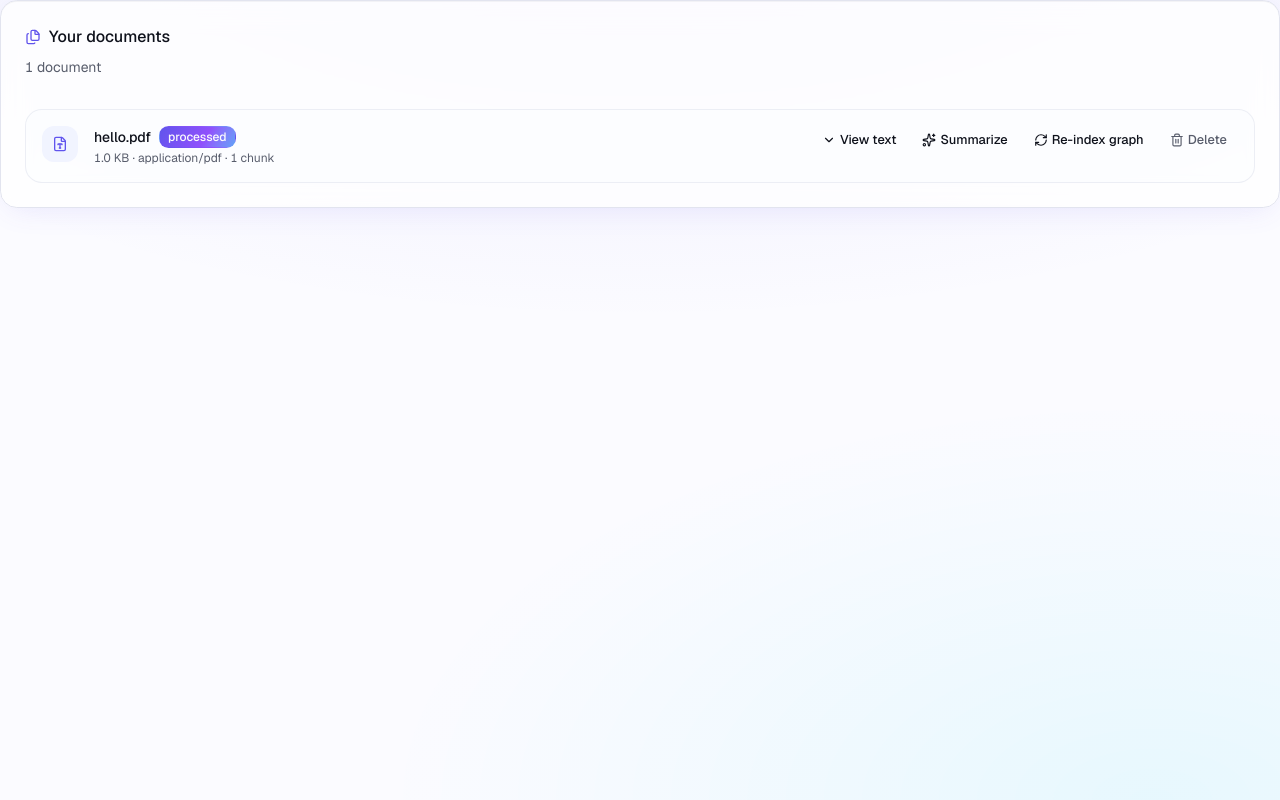
<DocumentsList /> › clicking 'Re-index graph' surfaces an error on non-2xx
Click the button with test id "reindex-graph-button".
click(1089, 140)  # box [1023, 126, 1155, 154]
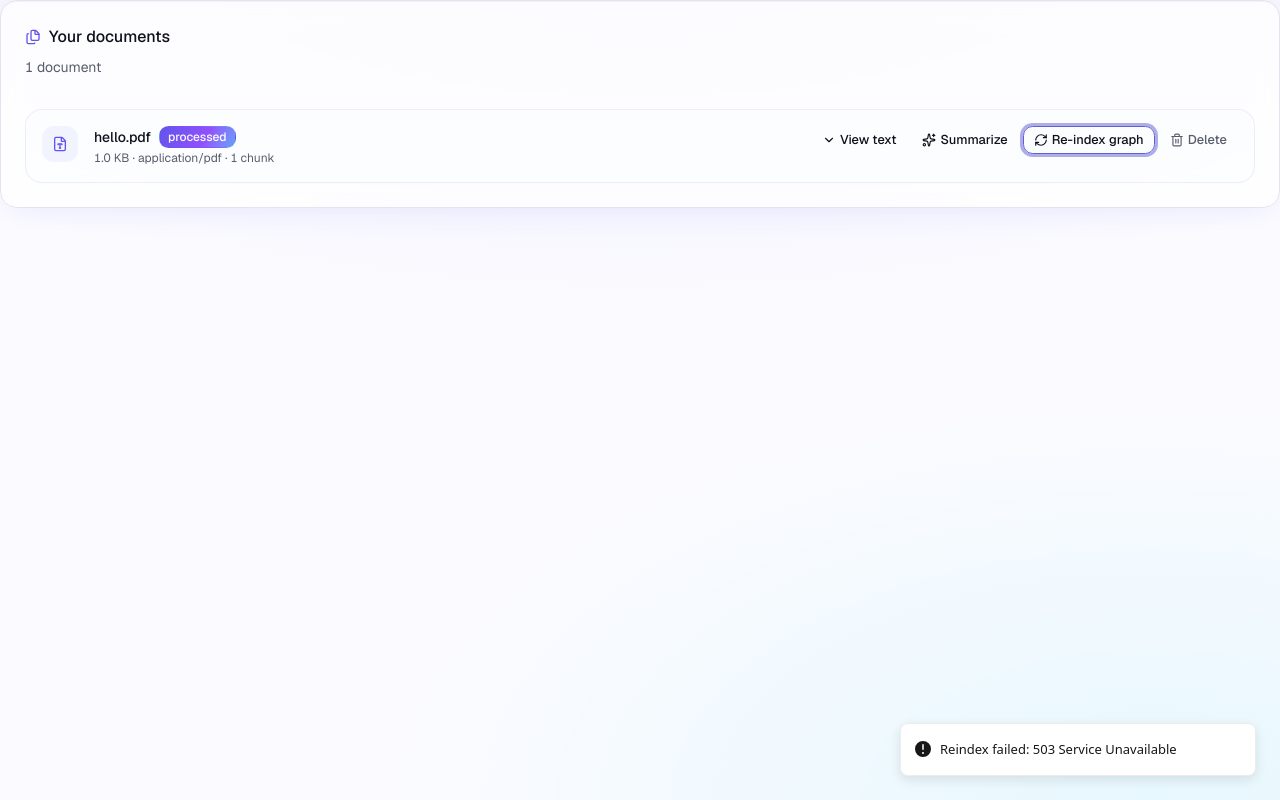
Check: the text "Reindex failed: 503 Service Unavailable" is shown, box [940, 740, 1177, 759]
